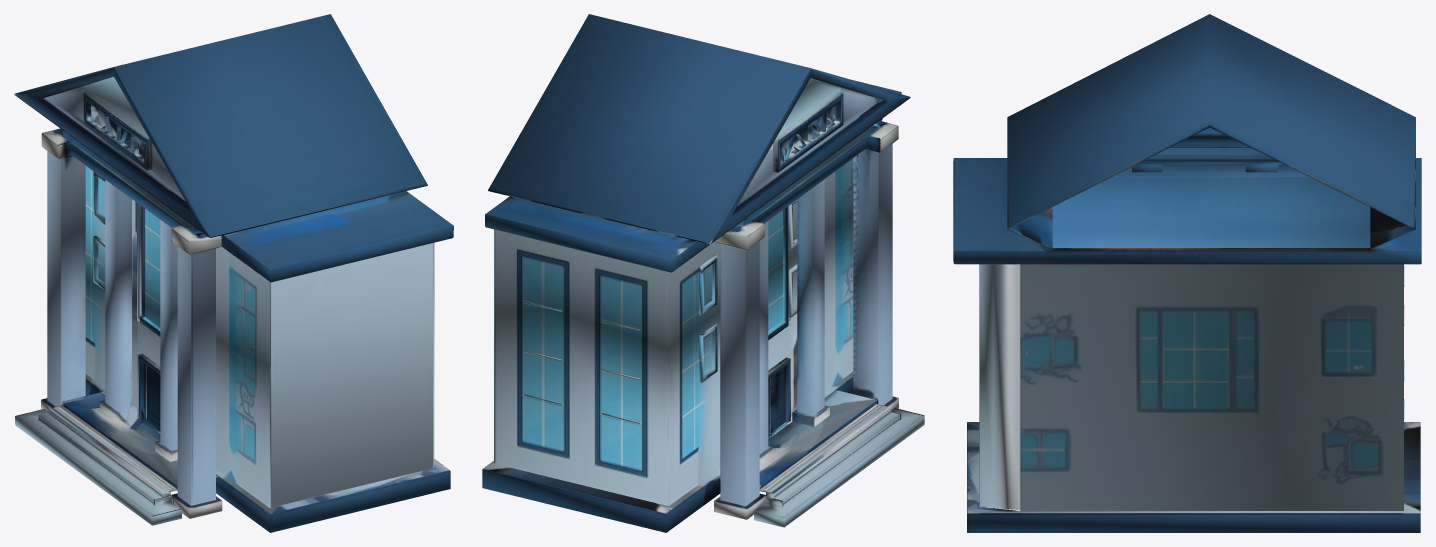
File: kantor_bank.glb
3 views of the same model, side by side, from view 1: azimuth 30°, elevation 25°; view 2: azimuth 150°, elevation 25°; view 3: azimuth 270°, elevation 25° (orthographic). The views are drawn at different scales.
Parts seen in each view (by area): view 1: tripo_node_4ba87e9a; view 2: tripo_node_4ba87e9a; view 3: tripo_node_4ba87e9a.
Boxes of the visible parts, bbox=[...] form: tripo_node_4ba87e9a: bbox=[14, 14, 453, 532]; tripo_node_4ba87e9a: bbox=[482, 14, 924, 532]; tripo_node_4ba87e9a: bbox=[953, 14, 1421, 532].
Size of the model in its own units: 0.6593 by 0.9694 by 1.
Materials: 1 (1 with a texture image).
